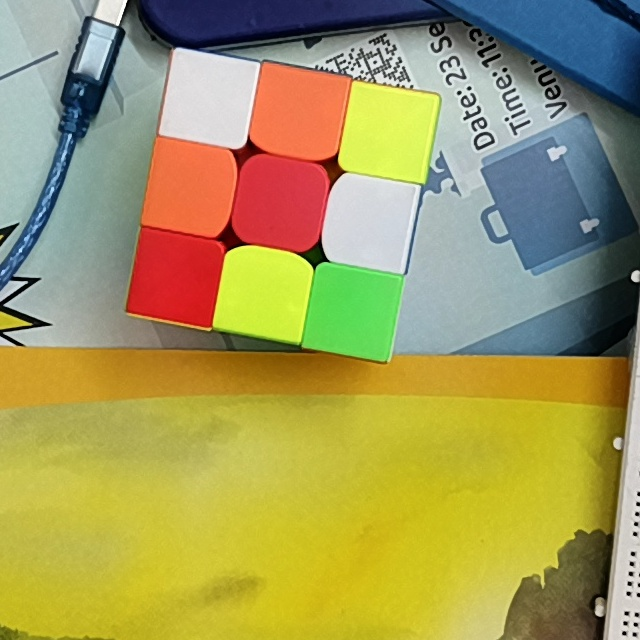tile: (316, 276, 389, 349), (335, 185, 404, 259), (264, 78, 334, 150), (140, 243, 210, 315), (354, 98, 423, 170), (156, 151, 223, 224), (244, 168, 310, 242), (177, 65, 243, 135), (230, 261, 298, 327)
